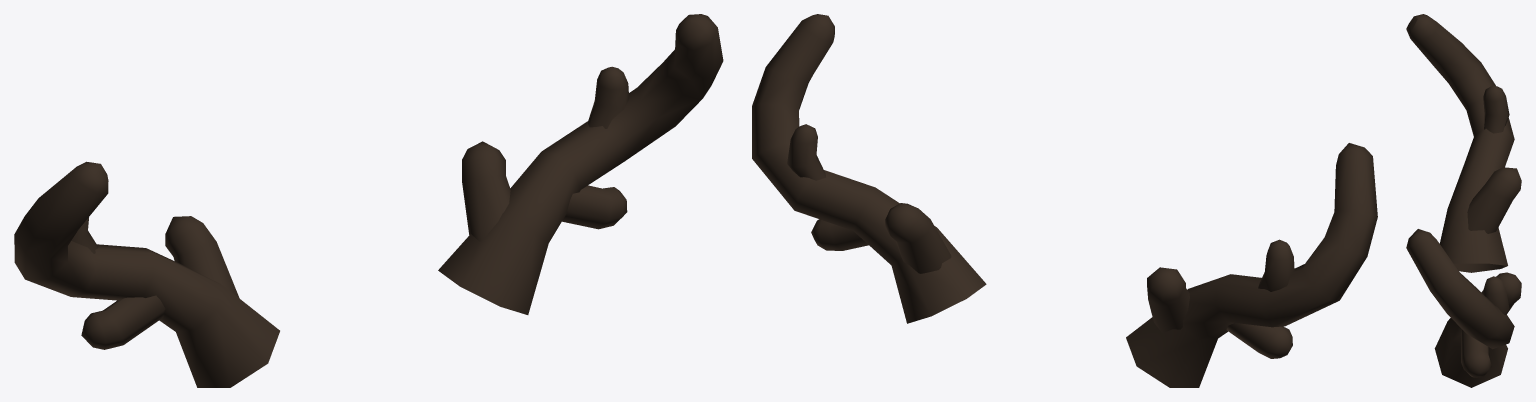
The model's file is Deer.FBX.
3 views of the same model, side by side, from view 1: azimuth 30°, elevation 25°; view 2: azimuth 150°, elevation 25°; view 3: azimuth 270°, elevation 25° (orthographic). The views are drawn at different scales.
Parts seen in each view (by area): view 1: Deer; view 2: Deer; view 3: Deer.
Boxes of the visible parts, box(x1,y1,x2,y2) form: Deer: box(14, 14, 723, 387); Deer: box(752, 14, 1377, 387); Deer: box(1406, 14, 1521, 387).
Bounding box in the file's own units: 1.56 × 0.615 × 0.3118.
